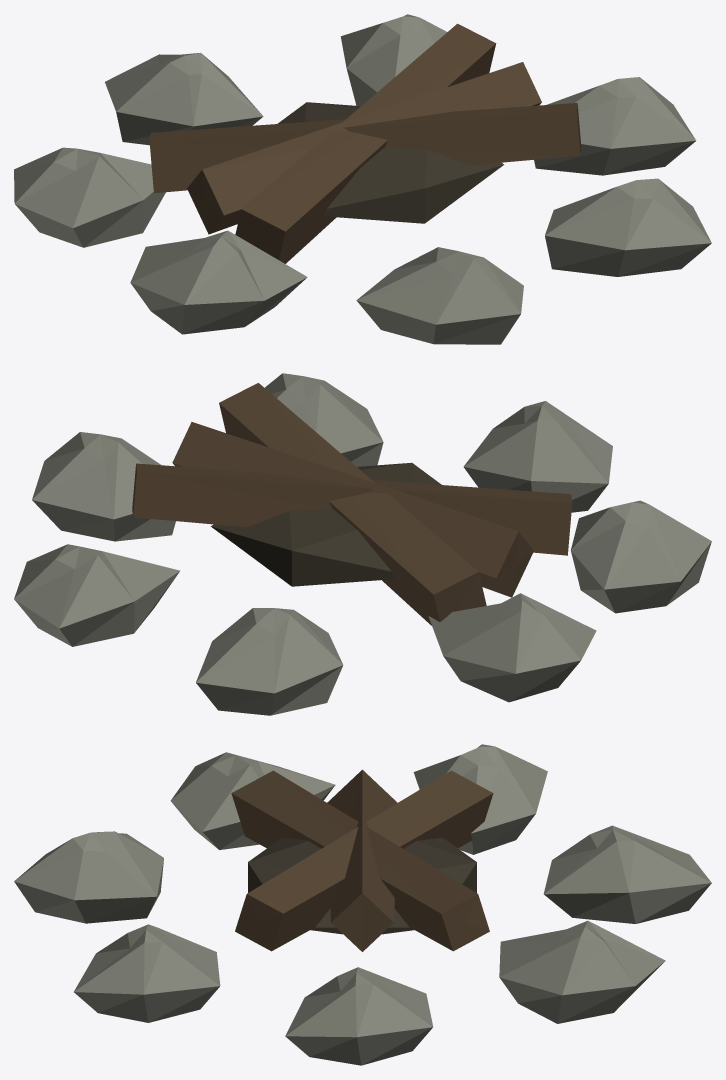
Rendered from campfire-far.glb.
3 renders of one model, top to bottom at view 1: azimuth 30°, elevation 25°; view 2: azimuth 150°, elevation 25°; view 3: azimuth 270°, elevation 25°, orthographic. The views are drawn at different scales.
Parts seen in each view (by area): view 1: world-scenery/campfire-far; view 2: world-scenery/campfire-far; view 3: world-scenery/campfire-far.
Boxes of the visible parts, x1,y1,x2,y2 form: world-scenery/campfire-far: (14, 14, 711, 344); world-scenery/campfire-far: (14, 373, 711, 715); world-scenery/campfire-far: (14, 744, 711, 1065).
Size of the model in its own units: 1.48 by 0.2697 by 1.55.
